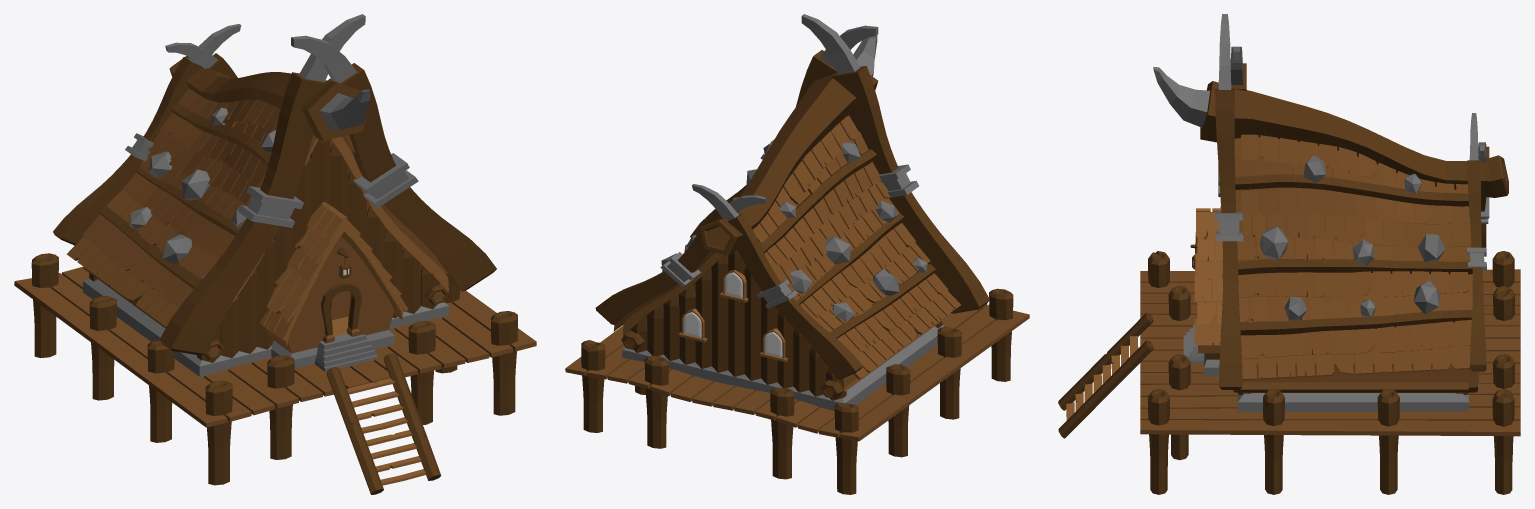
Rendered from A_BaseA.fbx.
3 views of the same model, side by side, from view 1: azimuth 30°, elevation 25°; view 2: azimuth 150°, elevation 25°; view 3: azimuth 270°, elevation 25° (orthographic). The views are drawn at different scales.
Parts seen in each view (by area): view 1: A_BaseA; view 2: A_BaseA; view 3: A_BaseA.
Boxes of the visible parts, x1=… form: A_BaseA: x1=14, y1=14, x2=536, y2=494; A_BaseA: x1=565, y1=14, x2=1029, y2=494; A_BaseA: x1=1058, y1=14, x2=1520, y2=494.
Size of the model in its own units: 922 by 1060 by 1124.
